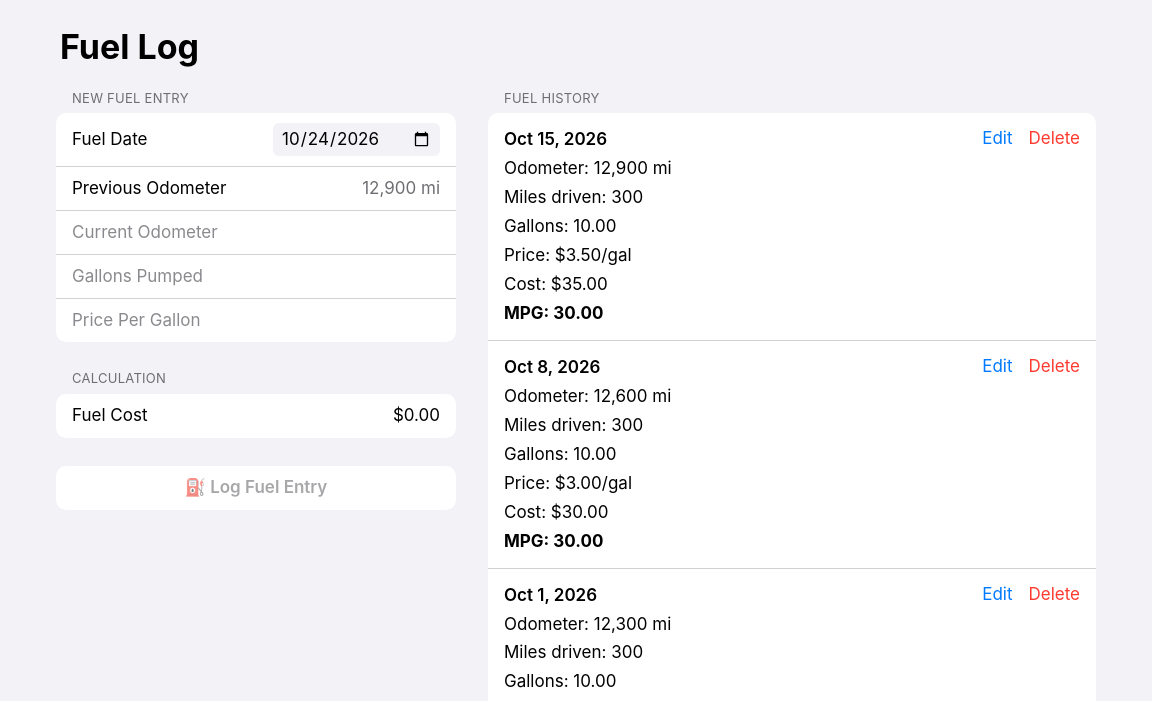
Test: editing a log › treats the newest log as having no next log
Expected: the text "Oct 15, 2026" is shown, 504,129 -> 607,149
Click the button with aria-label "Edit entry from Oct 15, 2026" at [997, 139], box 982,123 -> 1012,154
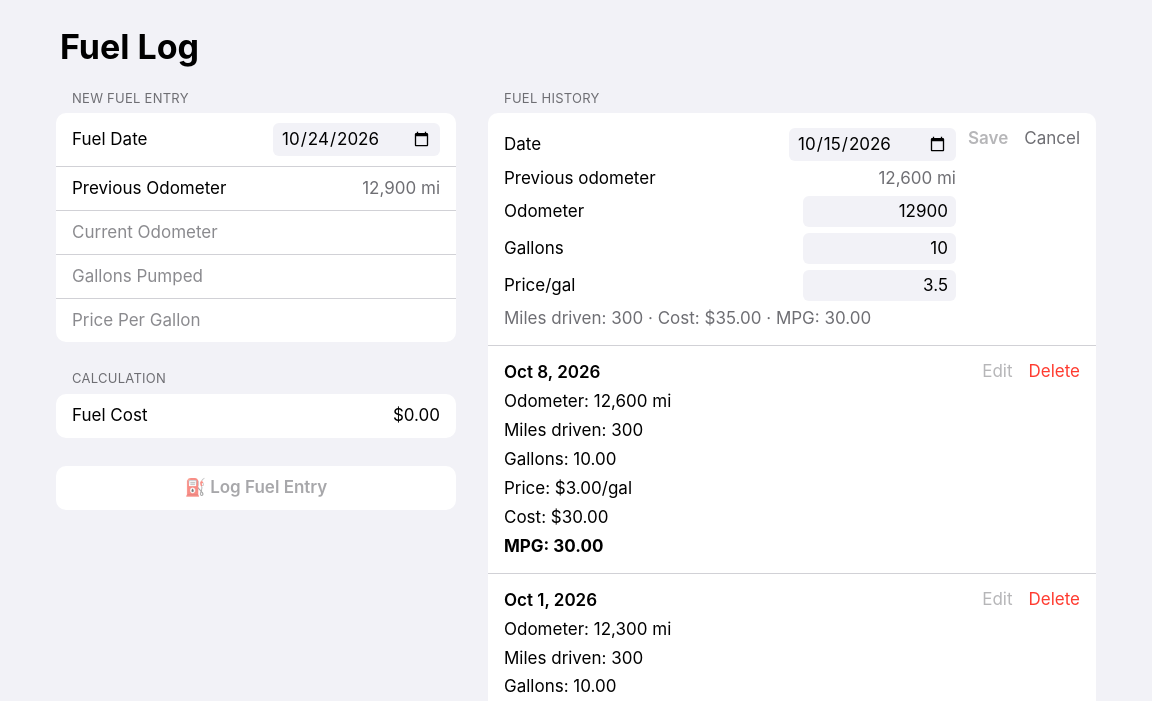
Replace the text in the field labelled "Odometer" with "50000" at [880, 212], box 803,196 -> 956,227
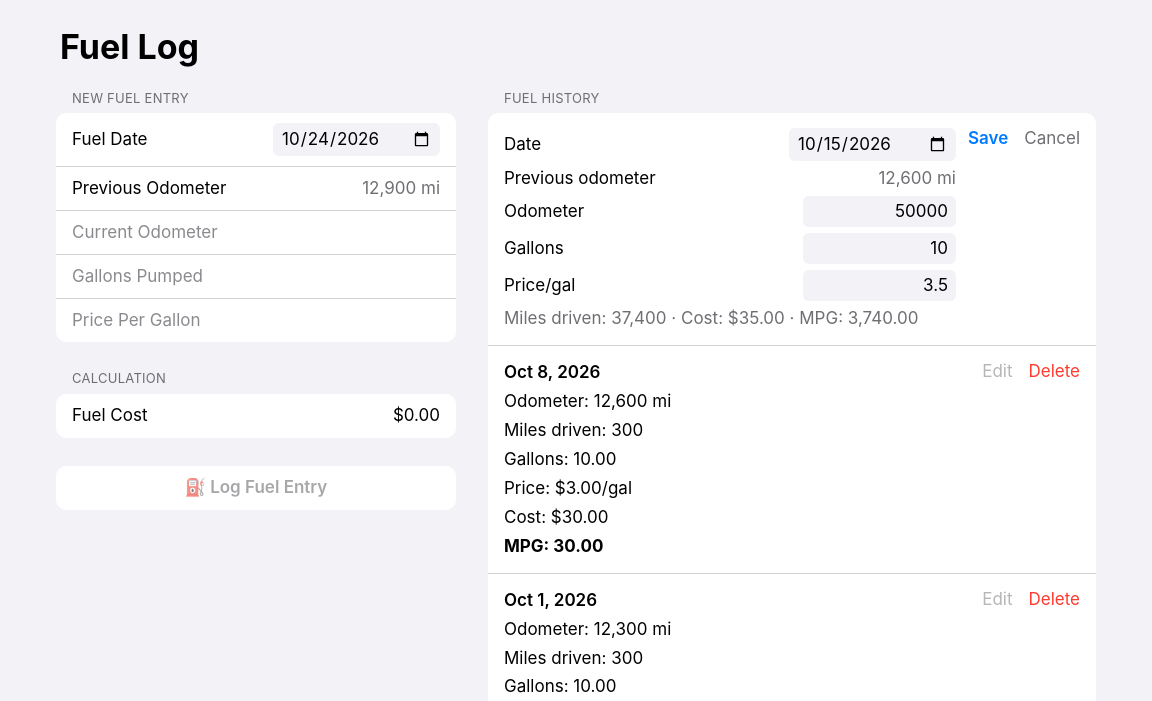
Expected: the button "Save" is enabled, 968,123 -> 1008,154
